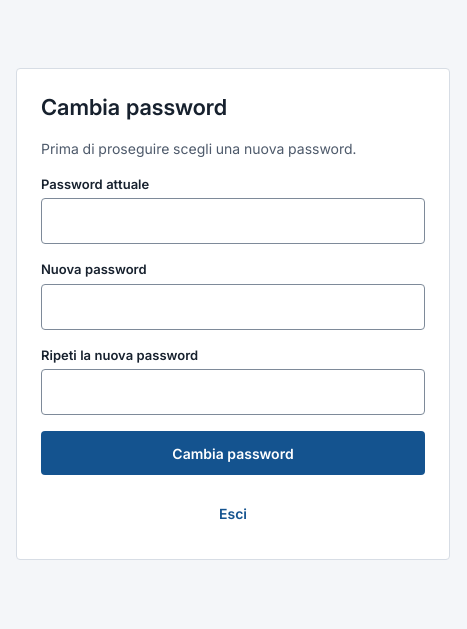
Scenario: schermata /password › rifiuta una nuova password uguale a quella attuale, senza chiamare il servizio
The image size is (467, 629).
In the password field labelled "Password attuale": (233, 221) [41,198,425,244], type "stessa-password-sintetica"
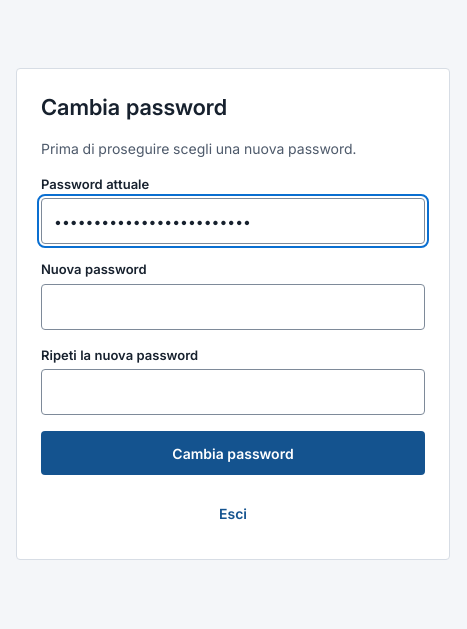
In the password field labelled "Nuova password": (233, 306) [41,284,425,330], type "stessa-password-sintetica"
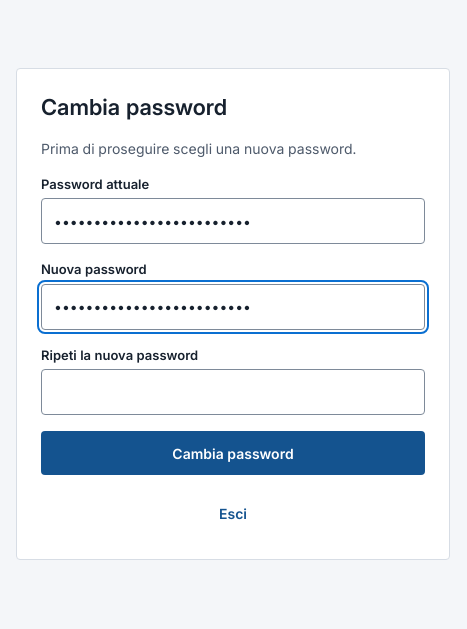
In the password field labelled "Ripeti la nuova password": (233, 392) [41,369,425,415], type "stessa-password-sintetica"
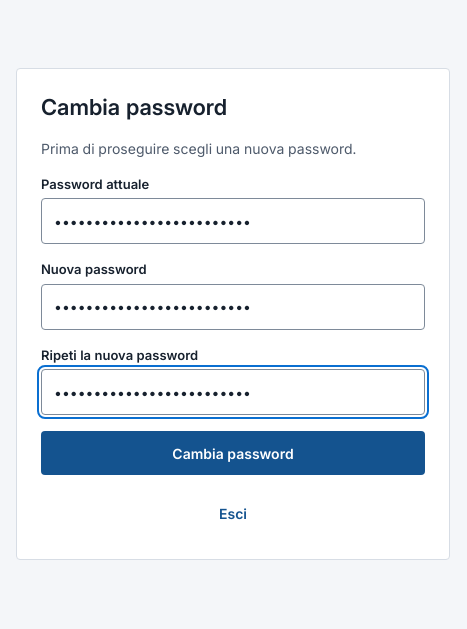
Click the button "Cambia password": (233, 453) [41,431,425,475]
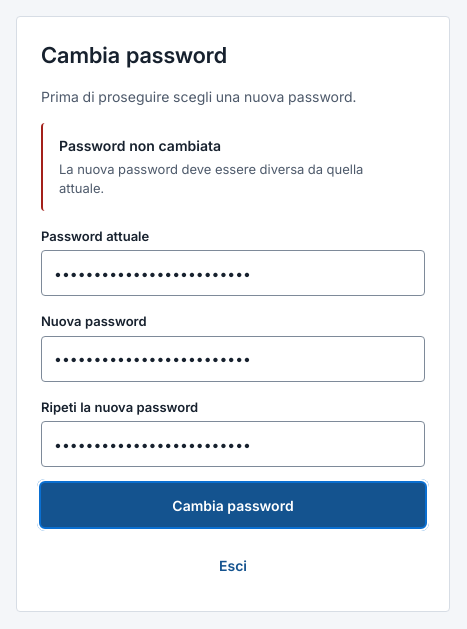
expect the text "La nuova password deve essere diversa da quella attuale." is shown: met, box [59,160,409,198]
